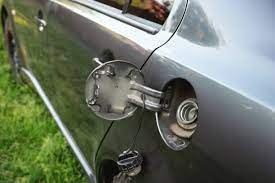open: (154, 76, 200, 154)
